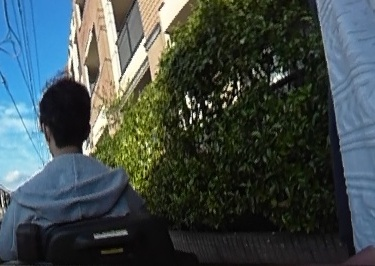person: (7, 76, 149, 266)
